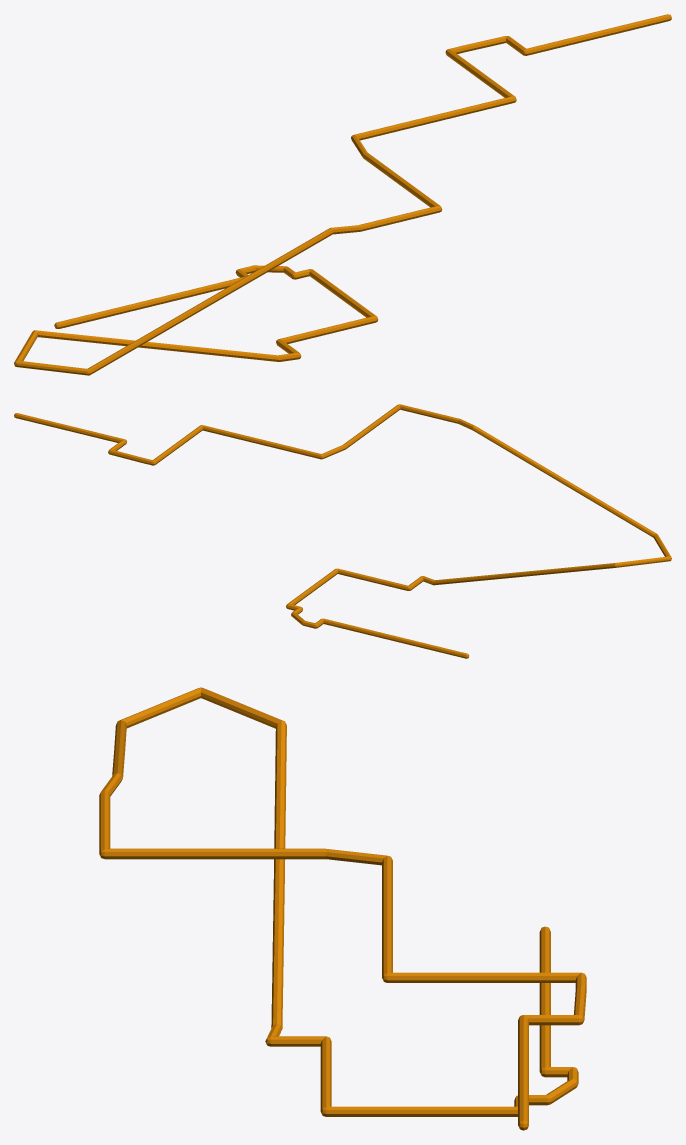
3 views of the same model, one above another, from view 1: azimuth 30°, elevation 25°; view 2: azimuth 150°, elevation 25°; view 3: azimuth 270°, elevation 25° (orthographic). The views are drawn at different scales.
Size of the model in its own units: 2406 by 520 by 881.
